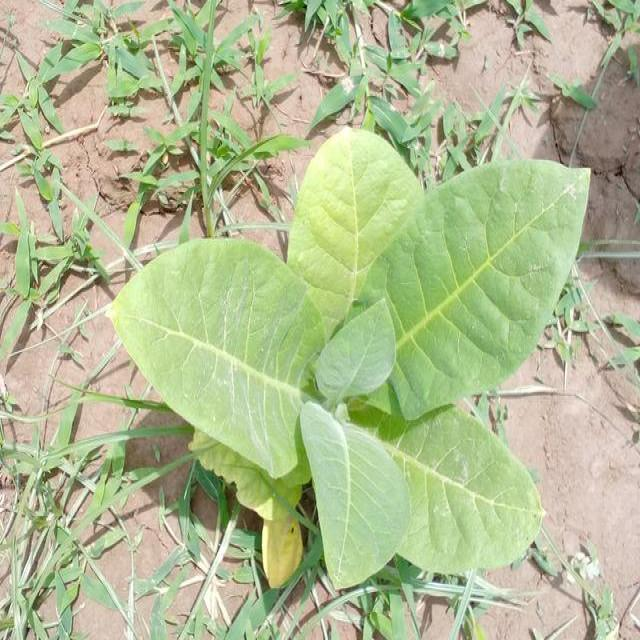crop: (112, 123, 591, 593)
